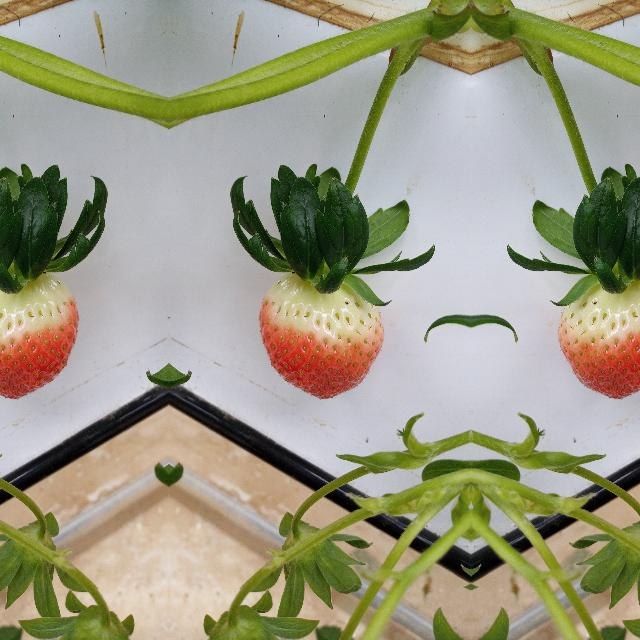Health_75: (256, 271, 384, 399), (557, 271, 640, 399), (0, 271, 80, 399)
